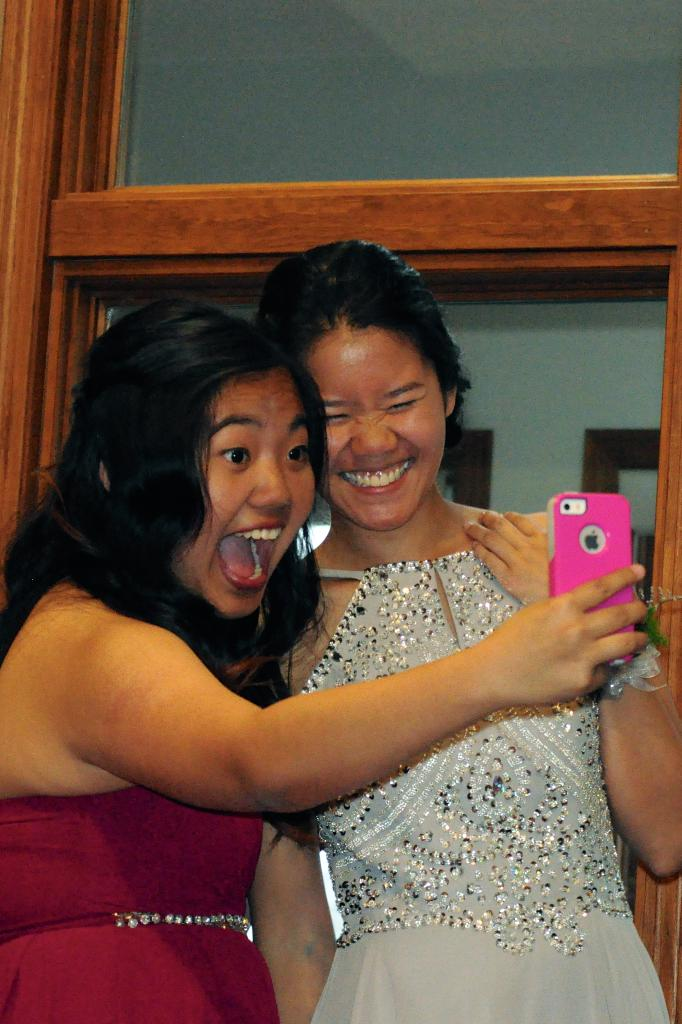Mobile-phone: (546, 492, 637, 666)
